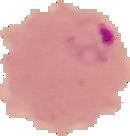parasitized: (13, 13, 121, 126), (53, 14, 124, 71)
